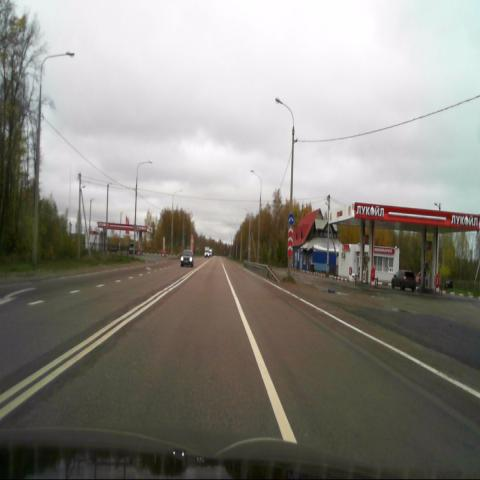4_2_3: (287, 213, 294, 227)
